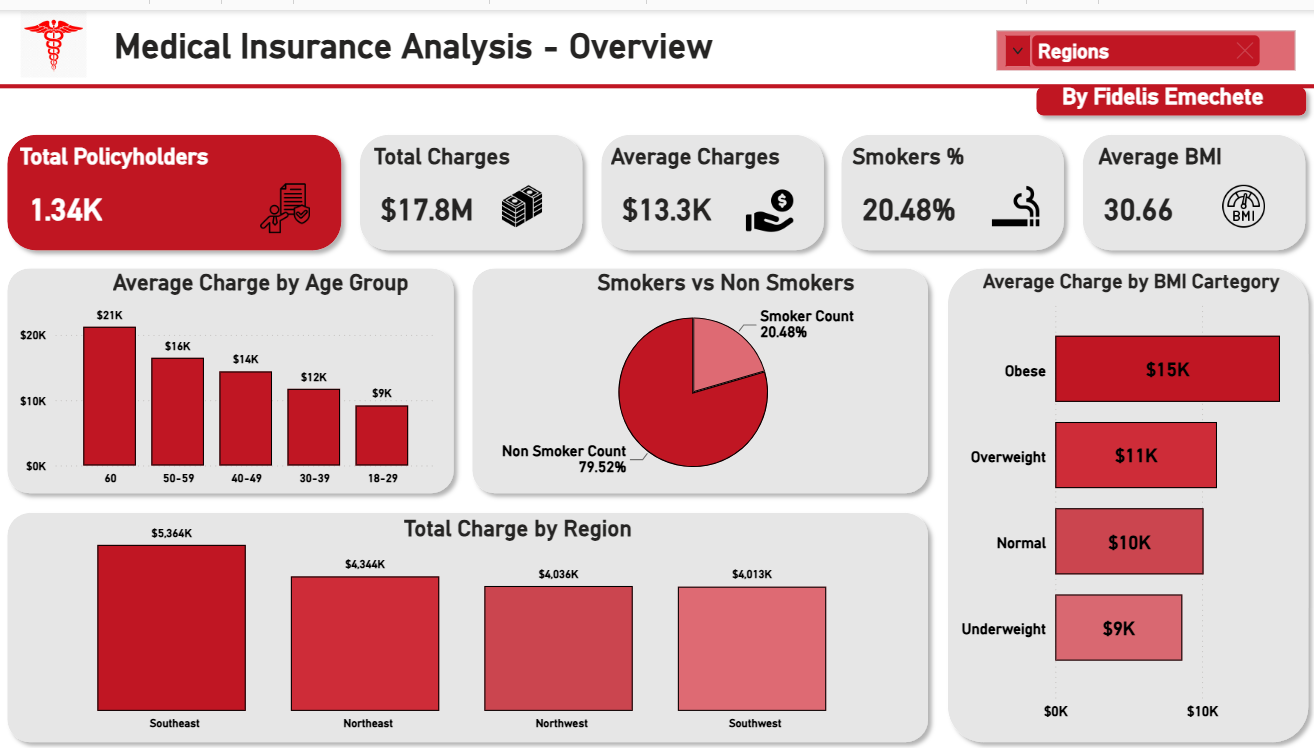

The dashboard page shown, as its layout file describes it:
{"tool":"powerbi","page":{"name":"Overview","canvas":[1280,720],"ordinal":0},"visuals":[{"type":"shape","box":[0,478.5,911.6,240.8],"z":1000},{"type":"shape","box":[0,242.3,451.2,236.2],"z":2000},{"type":"shape","box":[451.2,242.3,460.3,236.2],"z":3000},{"type":"shape","box":[912,242,368,478],"z":4000},{"type":"shape","box":[0,112.1,342.2,130.2],"z":5000},{"type":"shape","box":[342,112,234,130],"z":6000},{"type":"shape","box":[576,112,234,130],"z":7000},{"type":"shape","box":[810,112,234,130],"z":8000},{"type":"shape","box":[1044,112,234,130],"z":9000},{"type":"shape","box":[0,0,1278,148],"z":10000},{"type":"shape","box":[998,66,280,46],"z":11000},{"type":"cardVisual","title":"Total Policyholders","fields":{"Data":["Medical insurance.Total Policyholders"]},"box":[0,140.8,180,100],"z":12000},{"type":"cardVisual","title":"Total Charges","fields":{"Data":["Medical insurance.Total Charges"]},"box":[342,142,180,100],"z":13000},{"type":"cardVisual","title":"Average Charge","fields":{"Data":["Medical insurance.Average Charge"]},"box":[576,142,178,100],"z":14000},{"type":"cardVisual","title":"Smoker %","fields":{"Data":["Medical insurance.Smoker %"]},"box":[810,142,180,100],"z":15000},{"type":"textbox","box":[16.7,124.2,300,48],"z":16000},{"type":"textbox","box":[360,124,300,48],"z":17000},{"type":"textbox","box":[590,124,300,48],"z":18000},{"type":"textbox","box":[824,124,300,48],"z":19000},{"type":"textbox","box":[1062,124,218,48],"z":20000},{"type":"cardVisual","title":"Smoker %","fields":{"Data":["Medical insurance.Average BMI"]},"box":[1044,142,180,100],"z":21000},{"type":"columnChart","fields":{"Y":["Medical insurance.Average Charge"],"Category":["Medical insurance.Age Group"]},"box":[16.7,269.5,414.9,198.4],"z":22000},{"type":"textbox","box":[388,484,366,48],"z":23000},{"type":"pieChart","fields":{"Y":["Medical insurance.Smoker Count","Medical insurance.Non Smoker Count"]},"box":[458.8,272.6,431.5,196.8],"z":24000},{"type":"textbox","box":[106,245.3,300,48],"z":25000},{"type":"textbox","box":[576,246,300,48],"z":26000},{"type":"barChart","fields":{"Y":["Medical insurance.Average Charge"],"Category":["Medical insurance.BMI Cartegory"]},"box":[928,270,336,426],"z":27000},{"type":"textbox","box":[950,246,330,48],"z":28000},{"type":"columnChart","fields":{"Category":["Medical insurance.region"],"Y":["Medical insurance.Total Charges"]},"box":[16.7,484.5,873.7,221.1],"z":29000},{"type":"textbox","box":[108,10,686,48],"z":30000},{"type":"textbox","box":[1028,66,218,48],"z":31000},{"type":"image","box":[0,2,108,64],"z":32000},{"type":"textSlicer","fields":{"Values":["Medical insurance.region"]},"box":[964,14,300,44],"z":33000},{"type":"image","box":[242,168,74,50],"z":34000},{"type":"image","box":[472,168,74,46],"z":35000},{"type":"image","box":[712,172,74,46],"z":36000},{"type":"image","box":[950,168,74,46],"z":37000},{"type":"image","box":[1172,168,74,46],"z":38000}]}

Visuals, with their boxes in screenshot pixels (x1, y1, x2, y2), scaled from the page's 1280x720 canvas onto the 1314x748 screenshot:
shape: crop(0, 497, 936, 747)
shape: crop(0, 252, 463, 497)
shape: crop(463, 252, 936, 497)
shape: crop(936, 251, 1313, 747)
shape: crop(0, 116, 351, 252)
shape: crop(351, 116, 591, 251)
shape: crop(591, 116, 832, 251)
shape: crop(832, 116, 1072, 251)
shape: crop(1072, 116, 1312, 251)
shape: crop(0, 0, 1312, 154)
shape: crop(1025, 69, 1312, 116)
"Total Policyholders" cardVisual: crop(0, 146, 185, 250)
"Total Charges" cardVisual: crop(351, 148, 536, 251)
"Average Charge" cardVisual: crop(591, 148, 774, 251)
"Smoker %" cardVisual: crop(832, 148, 1016, 251)
textbox: crop(17, 129, 325, 179)
textbox: crop(370, 129, 678, 179)
textbox: crop(606, 129, 914, 179)
textbox: crop(846, 129, 1154, 179)
textbox: crop(1090, 129, 1313, 179)
"Smoker %" cardVisual: crop(1072, 148, 1257, 251)
columnChart - Medical insurance.Average Charge x Medical insurance.Age Group: crop(17, 280, 443, 486)
textbox: crop(398, 503, 774, 553)
pieChart - Medical insurance.Smoker Count x Medical insurance.Non Smoker Count: crop(471, 283, 914, 488)
textbox: crop(109, 255, 417, 305)
textbox: crop(591, 256, 899, 305)
barChart - Medical insurance.Average Charge x Medical insurance.BMI Cartegory: crop(953, 280, 1298, 723)
textbox: crop(975, 256, 1313, 305)
columnChart - Medical insurance.region x Medical insurance.Total Charges: crop(17, 503, 914, 733)
textbox: crop(111, 10, 815, 60)
textbox: crop(1055, 69, 1279, 118)
image: crop(0, 2, 111, 69)
textSlicer - Medical insurance.region: crop(990, 15, 1298, 60)
image: crop(248, 175, 324, 226)
image: crop(485, 175, 561, 222)
image: crop(731, 179, 807, 226)
image: crop(975, 175, 1051, 222)
image: crop(1203, 175, 1279, 222)
